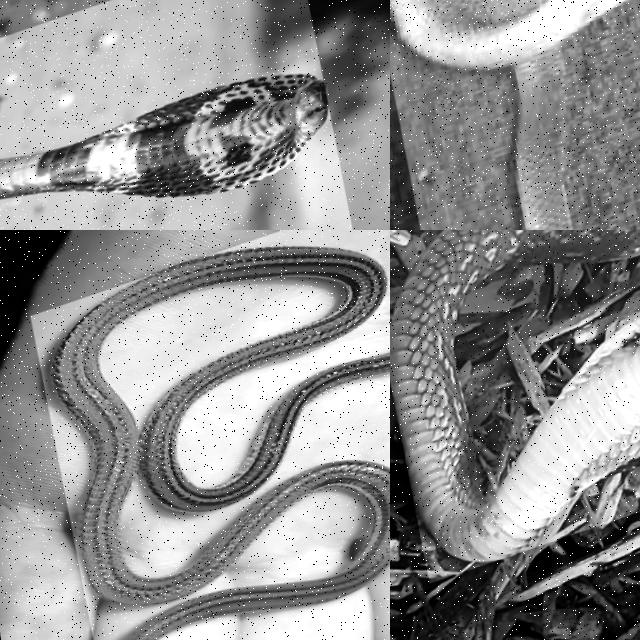Calliophis intestinalis: (52, 247, 389, 639)
Naja kaouthia: (390, 230, 639, 561), (390, 0, 628, 229)
Ophiophagus hannah: (0, 76, 326, 199)
